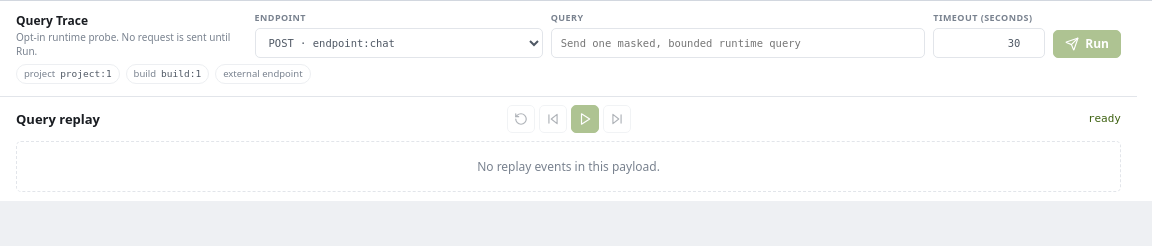
Test: QueryTracePanel › keeps the previous replay when an explicit retry fails
The image size is (1152, 246).
Type "trace once" into the field labelled "Query".
click(738, 43); type("trace once")  # box [551,28,925,58]
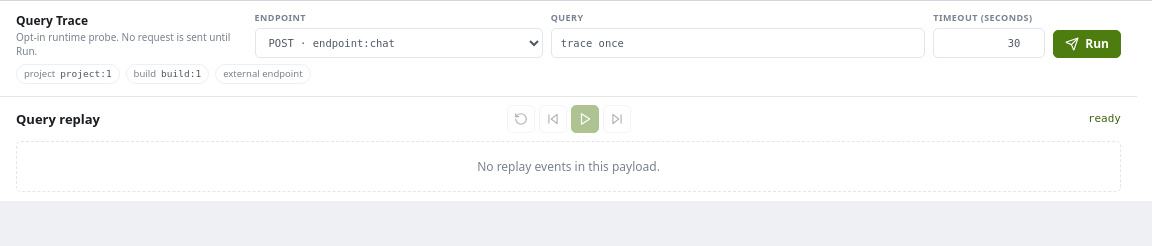
Click the button "Run".
click(1087, 44)  # box [1053,30,1121,58]
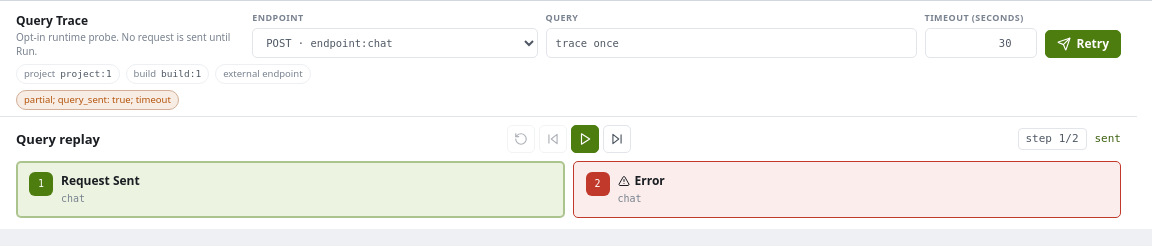
Result: the number of buttons with class "tl-step" is 2 at [16,161,564,218]; [572,161,1121,218]
Click the button "Retry".
click(1083, 44)  # box [1044,30,1121,58]
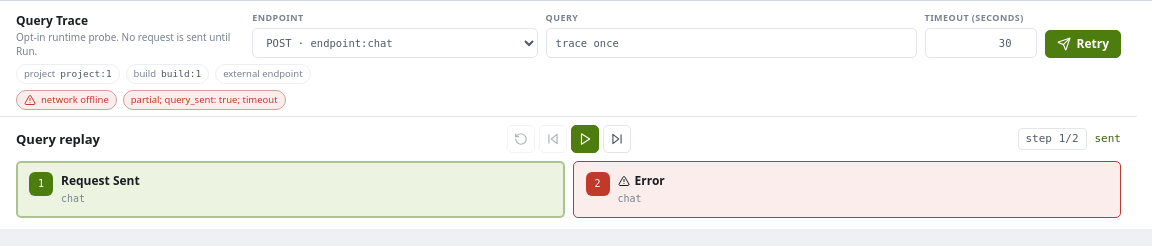
Result: the number of buttons with class "tl-step" is 2 at [16,161,564,218]; [572,161,1121,218]
Result: the text "network offline" is shown at [16,90,117,110]
